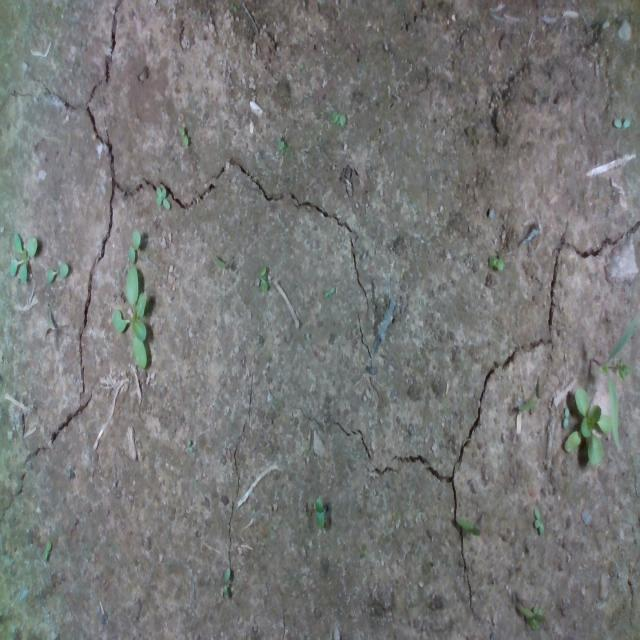weed: (46, 256, 76, 292), (154, 181, 172, 215), (311, 494, 327, 530), (489, 250, 511, 273), (330, 104, 348, 131), (220, 564, 233, 598), (530, 502, 544, 532), (256, 260, 266, 297), (38, 538, 52, 564), (177, 121, 189, 148), (612, 114, 632, 130), (274, 133, 288, 154), (322, 282, 339, 298)
